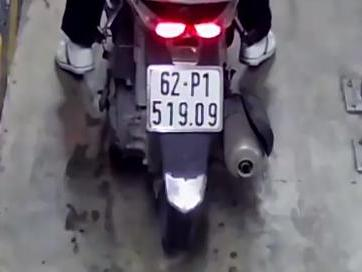num_plate: (143, 62, 229, 137)
